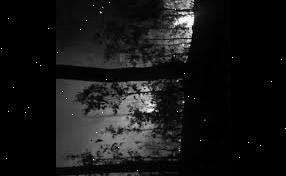fire: (149, 0, 198, 59), (125, 88, 167, 125)
